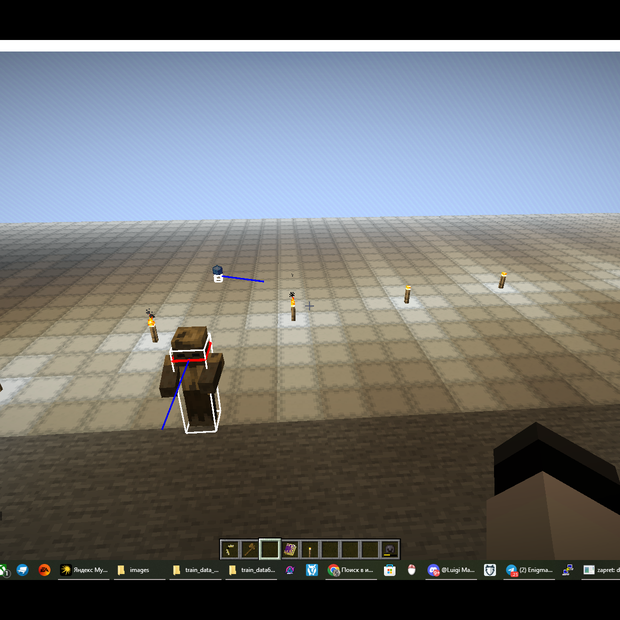target: (168, 331, 222, 433), (212, 273, 222, 282)
